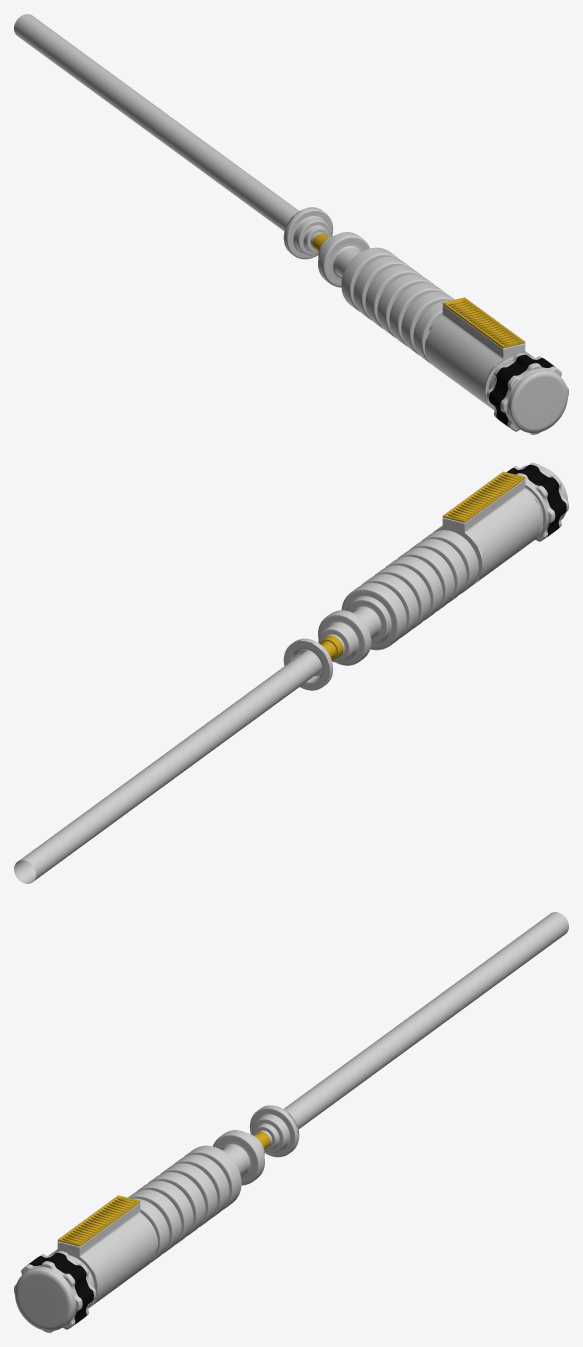
File: LIGHTSABER.obj
3 views of the same model, one above another, from view 1: azimuth 30°, elevation 25°; view 2: azimuth 150°, elevation 25°; view 3: azimuth 330°, elevation 25° (orthographic).
Visible parts, largest first — view 1: Cylinder; view 2: Cylinder; view 3: Cylinder.
Boxes of the visible parts, left/top/right/bottom form: Cylinder: left=14, top=14, right=568, bottom=434; Cylinder: left=14, top=463, right=568, bottom=883; Cylinder: left=14, top=912, right=568, bottom=1332.
Bounding box in the file's own units: 1.46 × 1.57 × 19.68.
